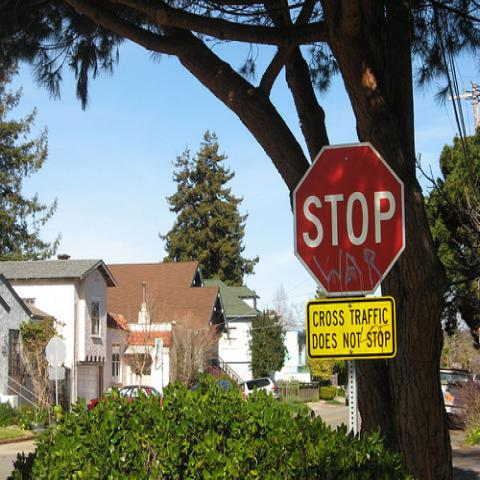car: (439, 365, 474, 429), (117, 384, 164, 409), (239, 377, 282, 400), (472, 372, 479, 386)
